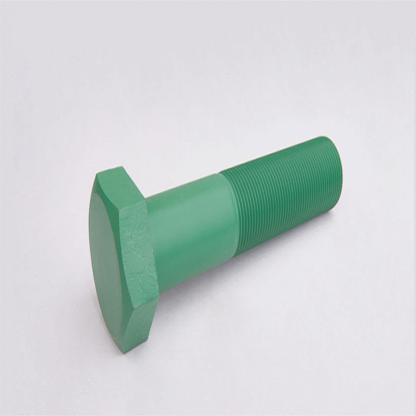FOD: (84, 132, 343, 355)
